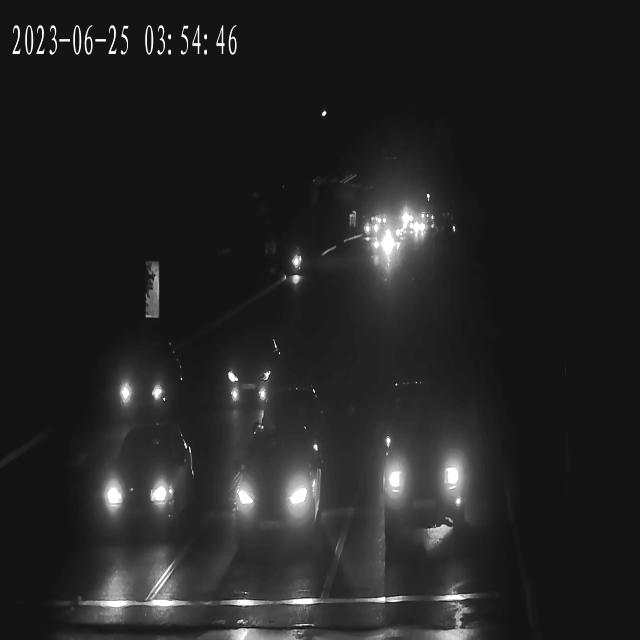Car: (371, 408, 473, 524), (92, 432, 190, 538), (229, 435, 321, 543), (217, 332, 286, 401), (112, 354, 174, 414), (368, 228, 402, 255), (366, 232, 398, 260), (366, 230, 395, 256), (382, 221, 406, 243), (386, 224, 409, 244), (406, 221, 429, 238), (358, 220, 379, 237), (408, 225, 428, 242), (372, 213, 390, 227)
